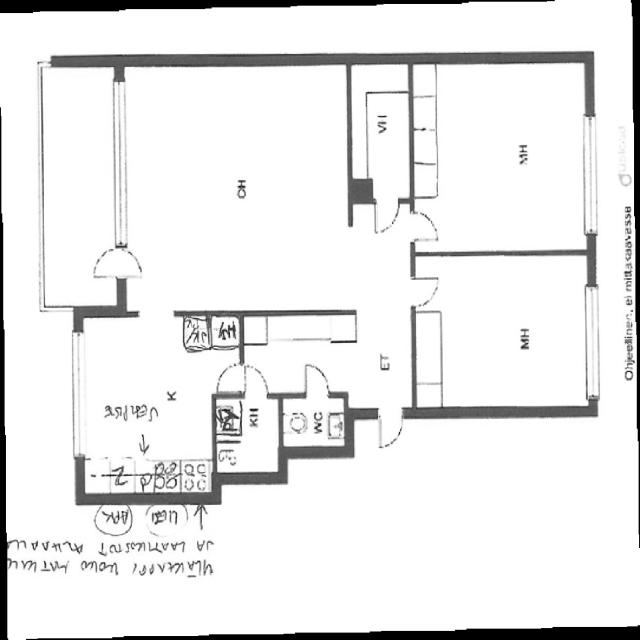door: (242, 316, 354, 400), (212, 390, 282, 479), (86, 245, 149, 282), (406, 205, 444, 247), (297, 358, 335, 400), (374, 405, 406, 454), (406, 270, 444, 311), (371, 195, 403, 238), (214, 358, 248, 398), (238, 362, 272, 401)
window: (101, 68, 138, 252), (66, 322, 92, 466), (577, 108, 604, 243), (580, 278, 606, 407)
zone: (119, 63, 354, 318), (410, 60, 592, 256), (74, 310, 240, 497), (408, 254, 596, 410), (242, 311, 356, 398), (350, 61, 412, 200), (214, 396, 282, 478), (280, 393, 350, 453)
